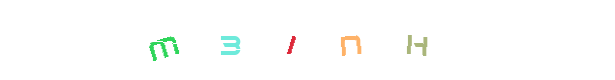1: (251, 0, 331, 80)
3: (182, 0, 262, 80)
H: (343, 0, 423, 80)
M: (123, 0, 203, 80)
N: (268, 0, 348, 80)
